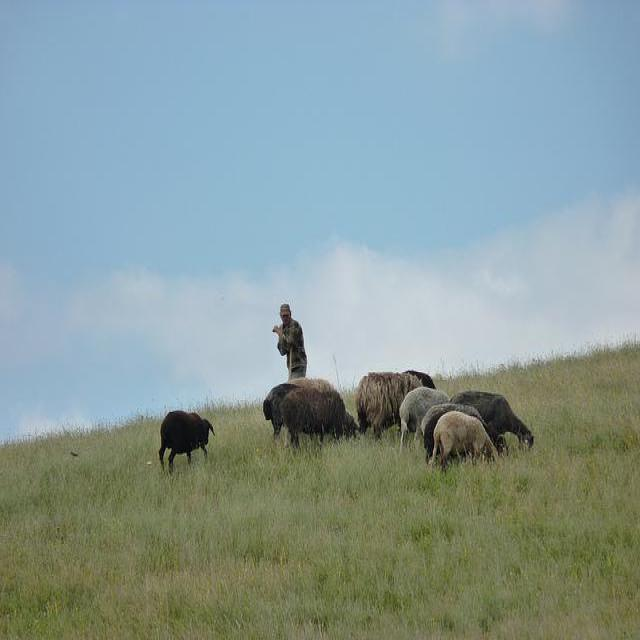Sheep: (281, 383, 360, 456), (421, 404, 510, 467), (453, 391, 535, 449), (356, 375, 424, 441), (432, 412, 500, 477), (261, 379, 333, 436), (155, 412, 216, 476), (400, 387, 451, 449)
